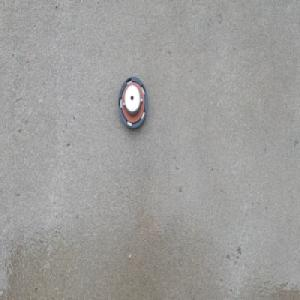FuelCap: (116, 74, 147, 129)
